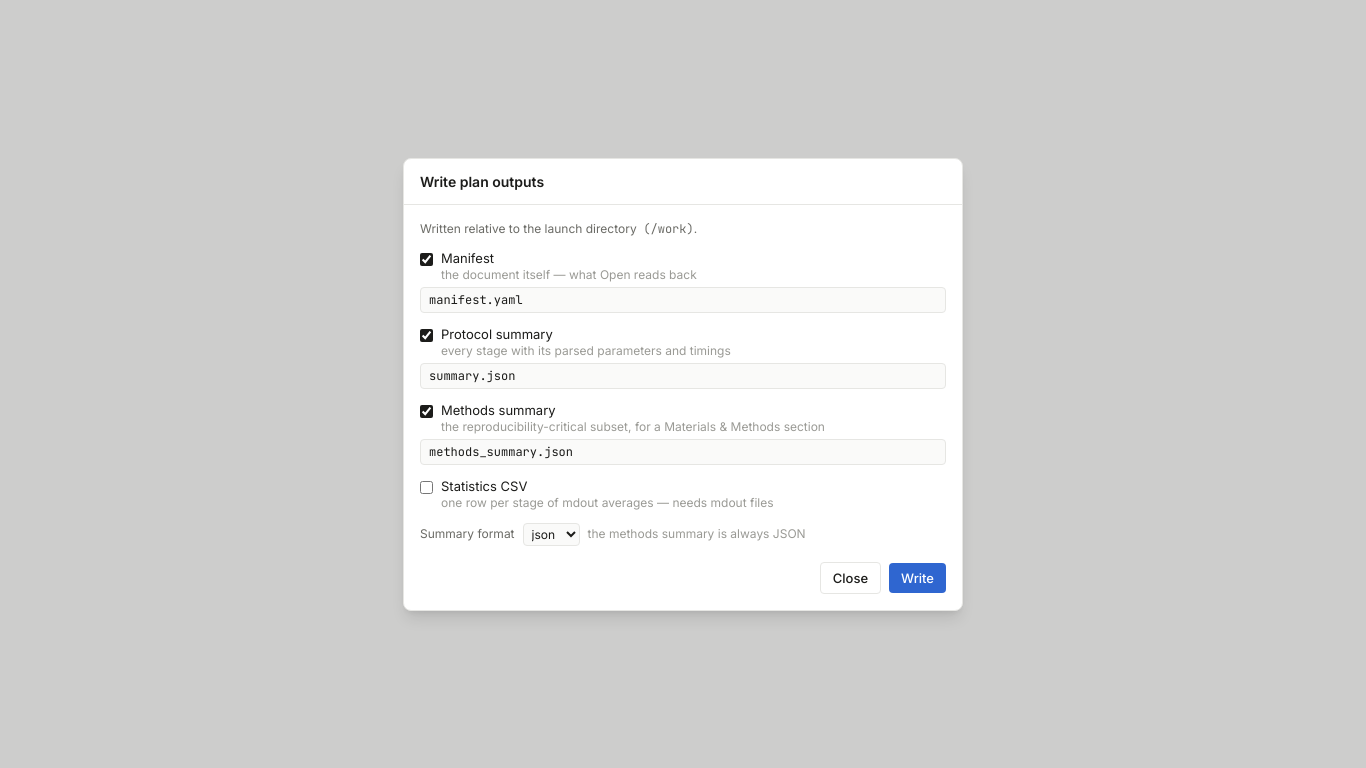
Test: blocks two outputs aimed at one file before the round trip
Expected: the dialog is shown, [403,158,963,610]
Clear the field named "Protocol summary path" at (683, 376), box [420,362,946,388]
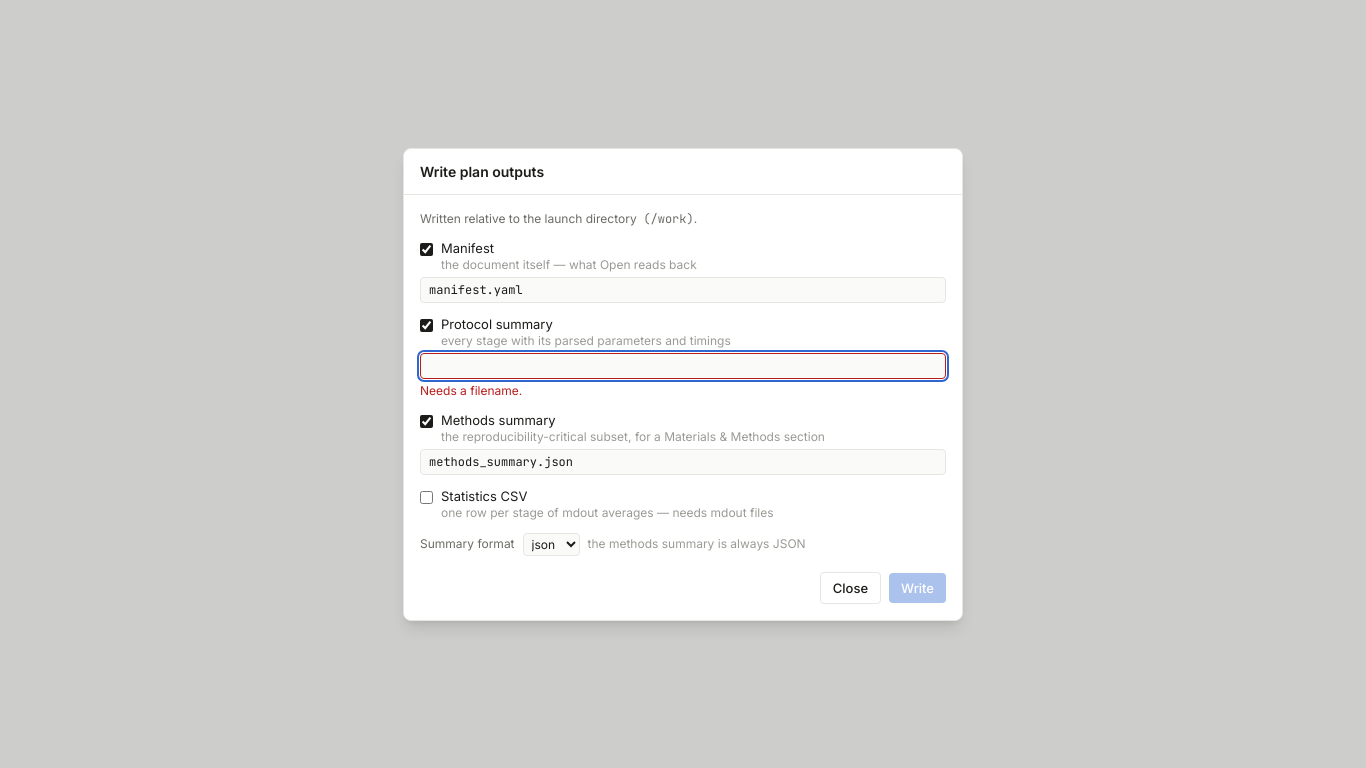
Type "manifest.yaml" into the field named "Protocol summary path" at (683, 366), box [420,352,946,378]
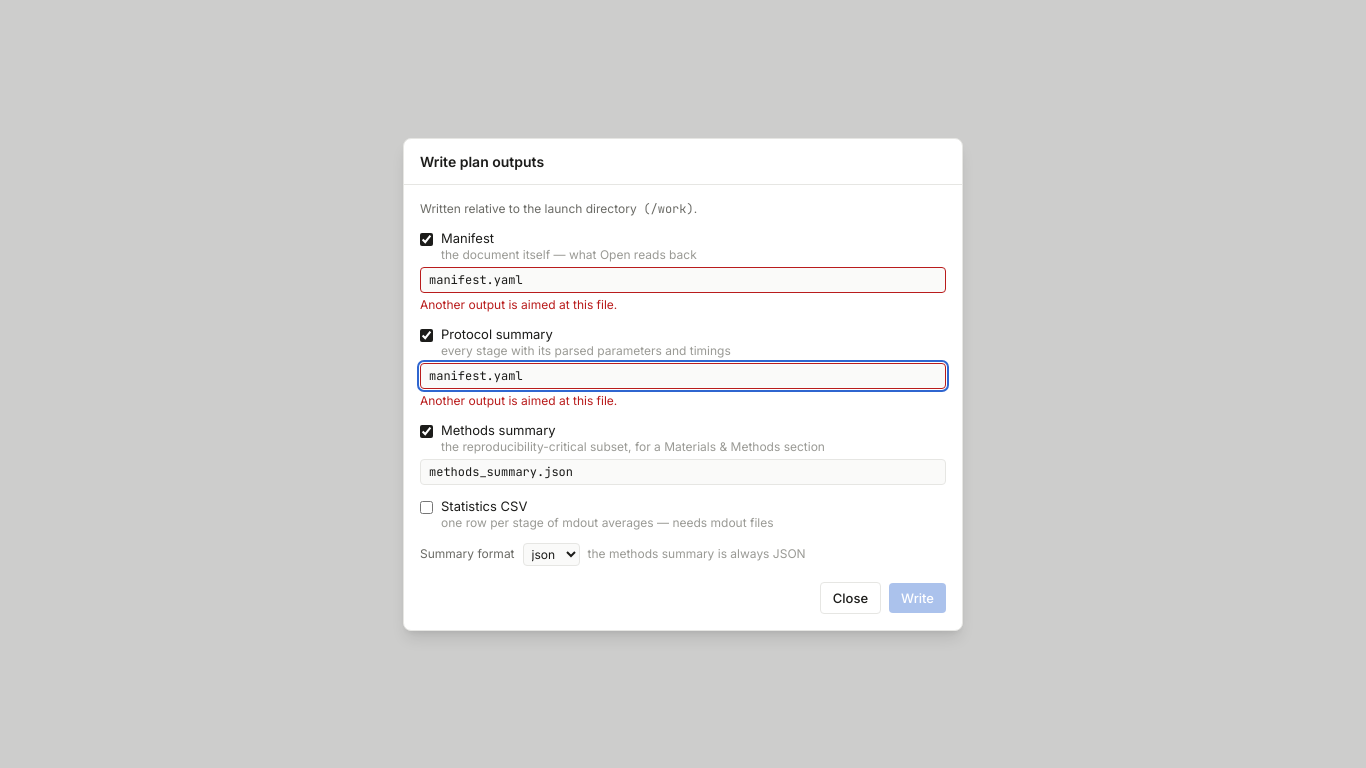
Now the button "Write" is disabled, box [889,582,946,612]
Now the text "Another output is aimed at this file." is shown 2 times, box [420,296,617,312]; [420,392,617,408]
